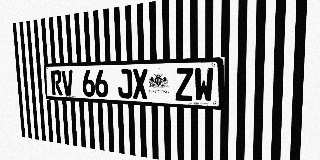6: (94, 69, 108, 98), (82, 70, 95, 97)
J: (117, 69, 132, 99)
R: (51, 70, 63, 95)
V: (61, 70, 74, 96)
W: (194, 68, 214, 102)
X: (132, 69, 148, 99)
Z: (175, 68, 193, 101)
